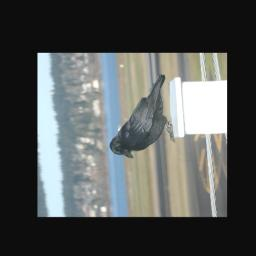Crow: (100, 74, 177, 160)
